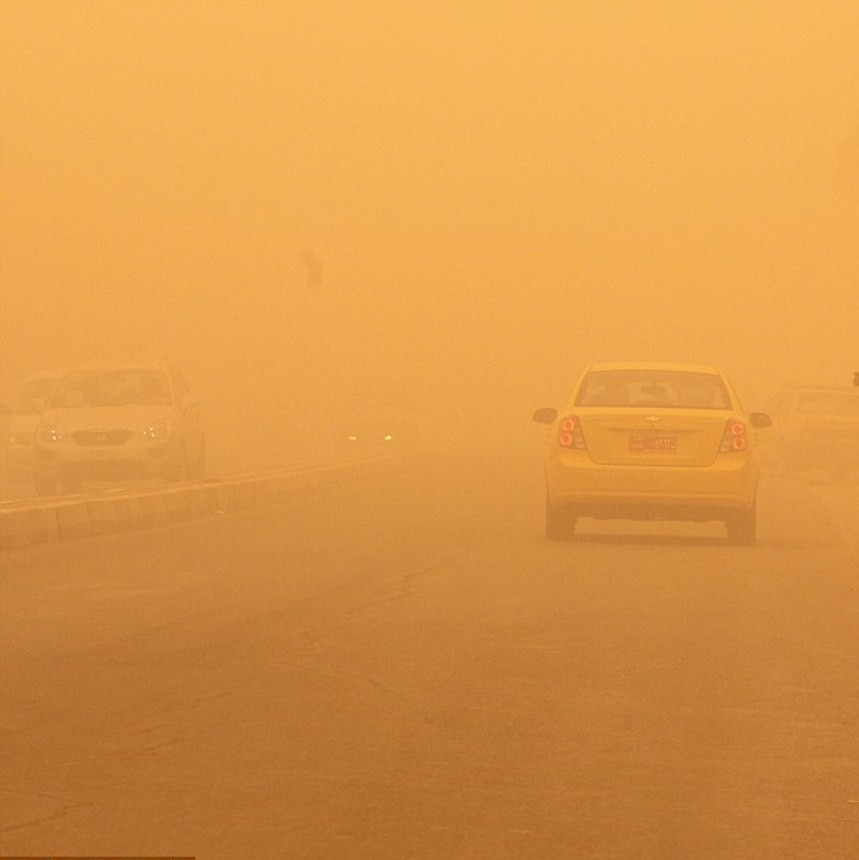car: (540, 358, 766, 547), (27, 355, 202, 502), (762, 380, 858, 489), (5, 370, 58, 479), (344, 400, 413, 457)
